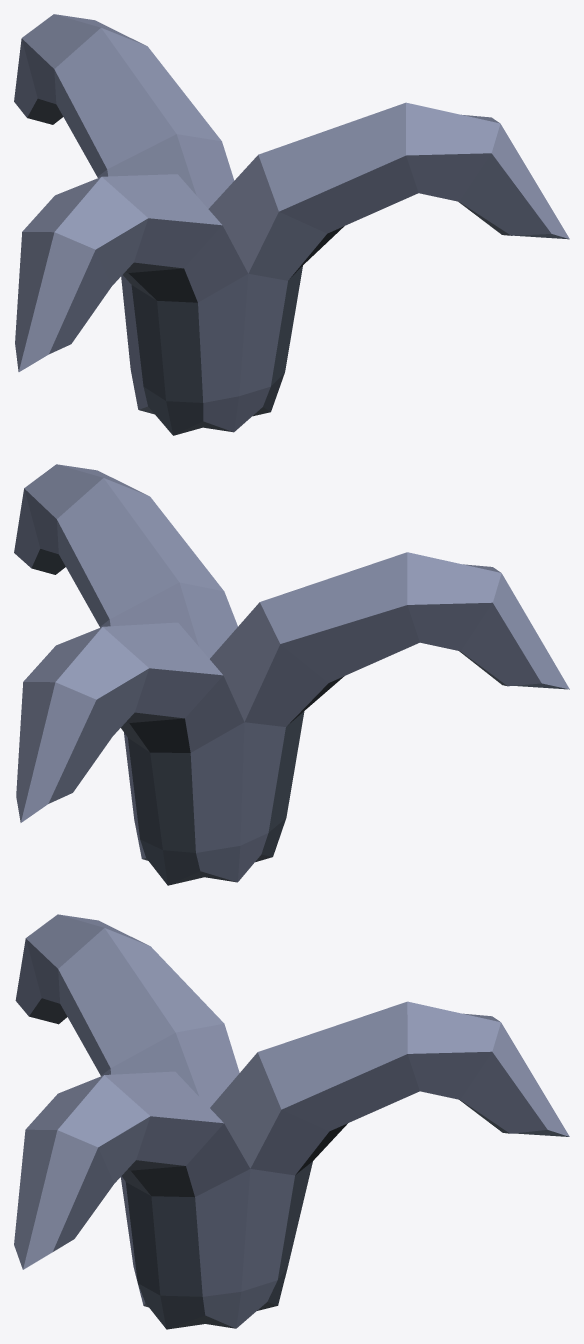
The model's file is the hook.fbx.
3 views of the same model, one above another, from view 1: azimuth 30°, elevation 25°; view 2: azimuth 150°, elevation 25°; view 3: azimuth 270°, elevation 25° (orthographic).
Visible parts, largest first — view 1: Hook; view 2: Hook; view 3: Hook.
Boxes of the visible parts, x1,y1,x2,y2 form: Hook: (14,14,569,435); Hook: (14,464,569,885); Hook: (14,914,569,1329).
Bounding box in the file's own units: 407 × 230 × 359.
